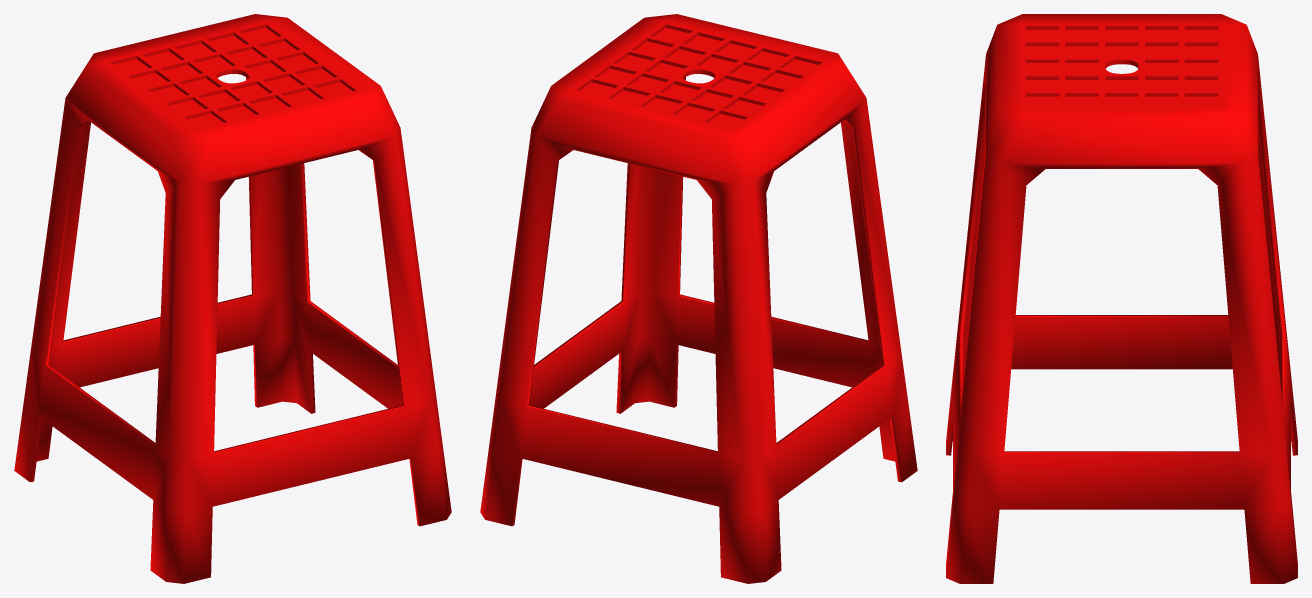
File: plastic-stool-r.glb
3 views of the same model, side by side, from view 1: azimuth 30°, elevation 25°; view 2: azimuth 150°, elevation 25°; view 3: azimuth 270°, elevation 25° (orthographic). The views are drawn at different scales.
Parts seen in each view (by area): view 1: Cube; view 2: Cube; view 3: Cube.
Boxes of the visible parts, x1=… form: Cube: x1=14, y1=14, x2=451, y2=583; Cube: x1=480, y1=14, x2=917, y2=583; Cube: x1=946, y1=14, x2=1297, y2=583.
Size of what is drawn, in the model's own units: 0.3451 by 0.4798 by 0.3451.
